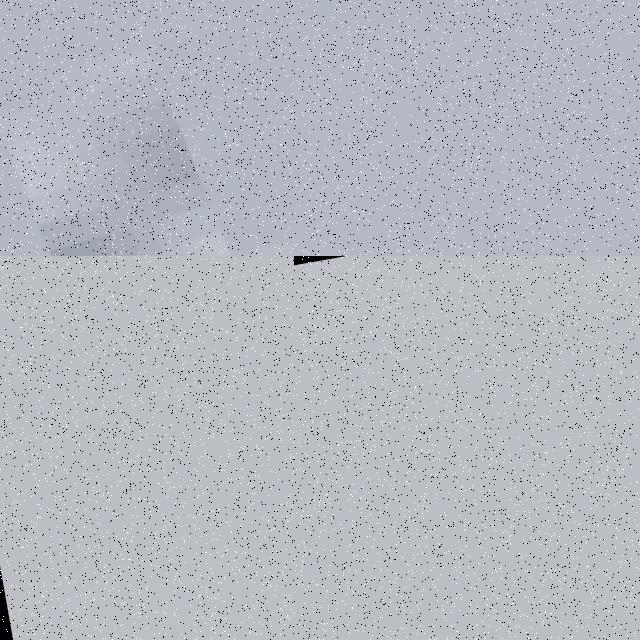drone: (0, 0, 294, 256)
